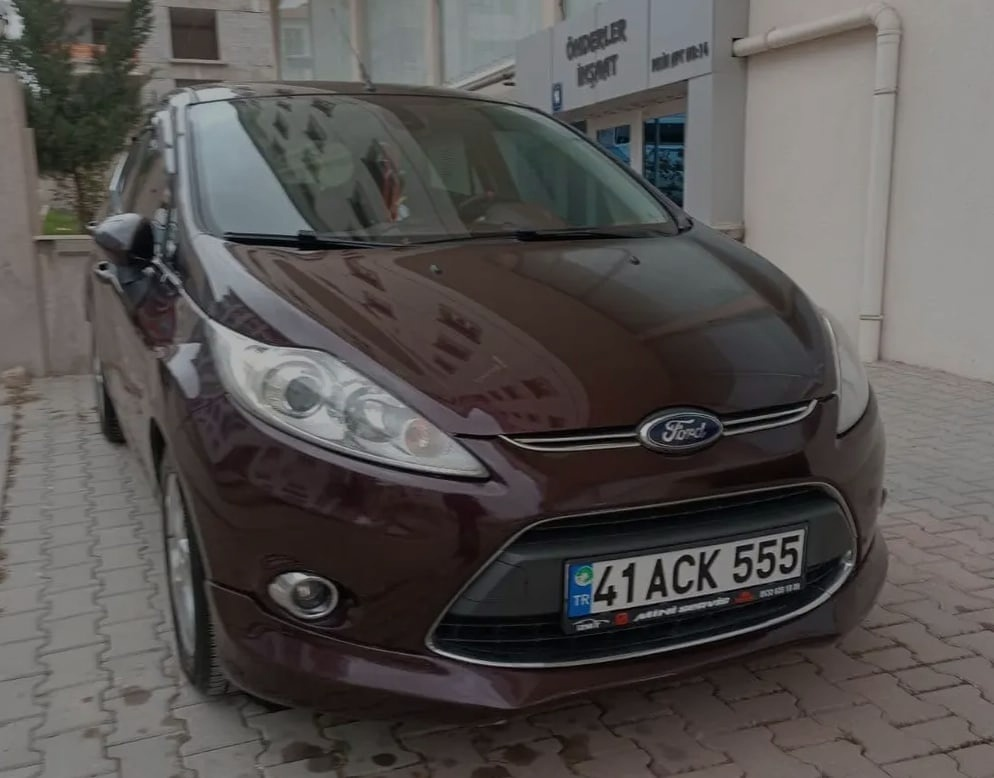plaka: (587, 526, 829, 619)
